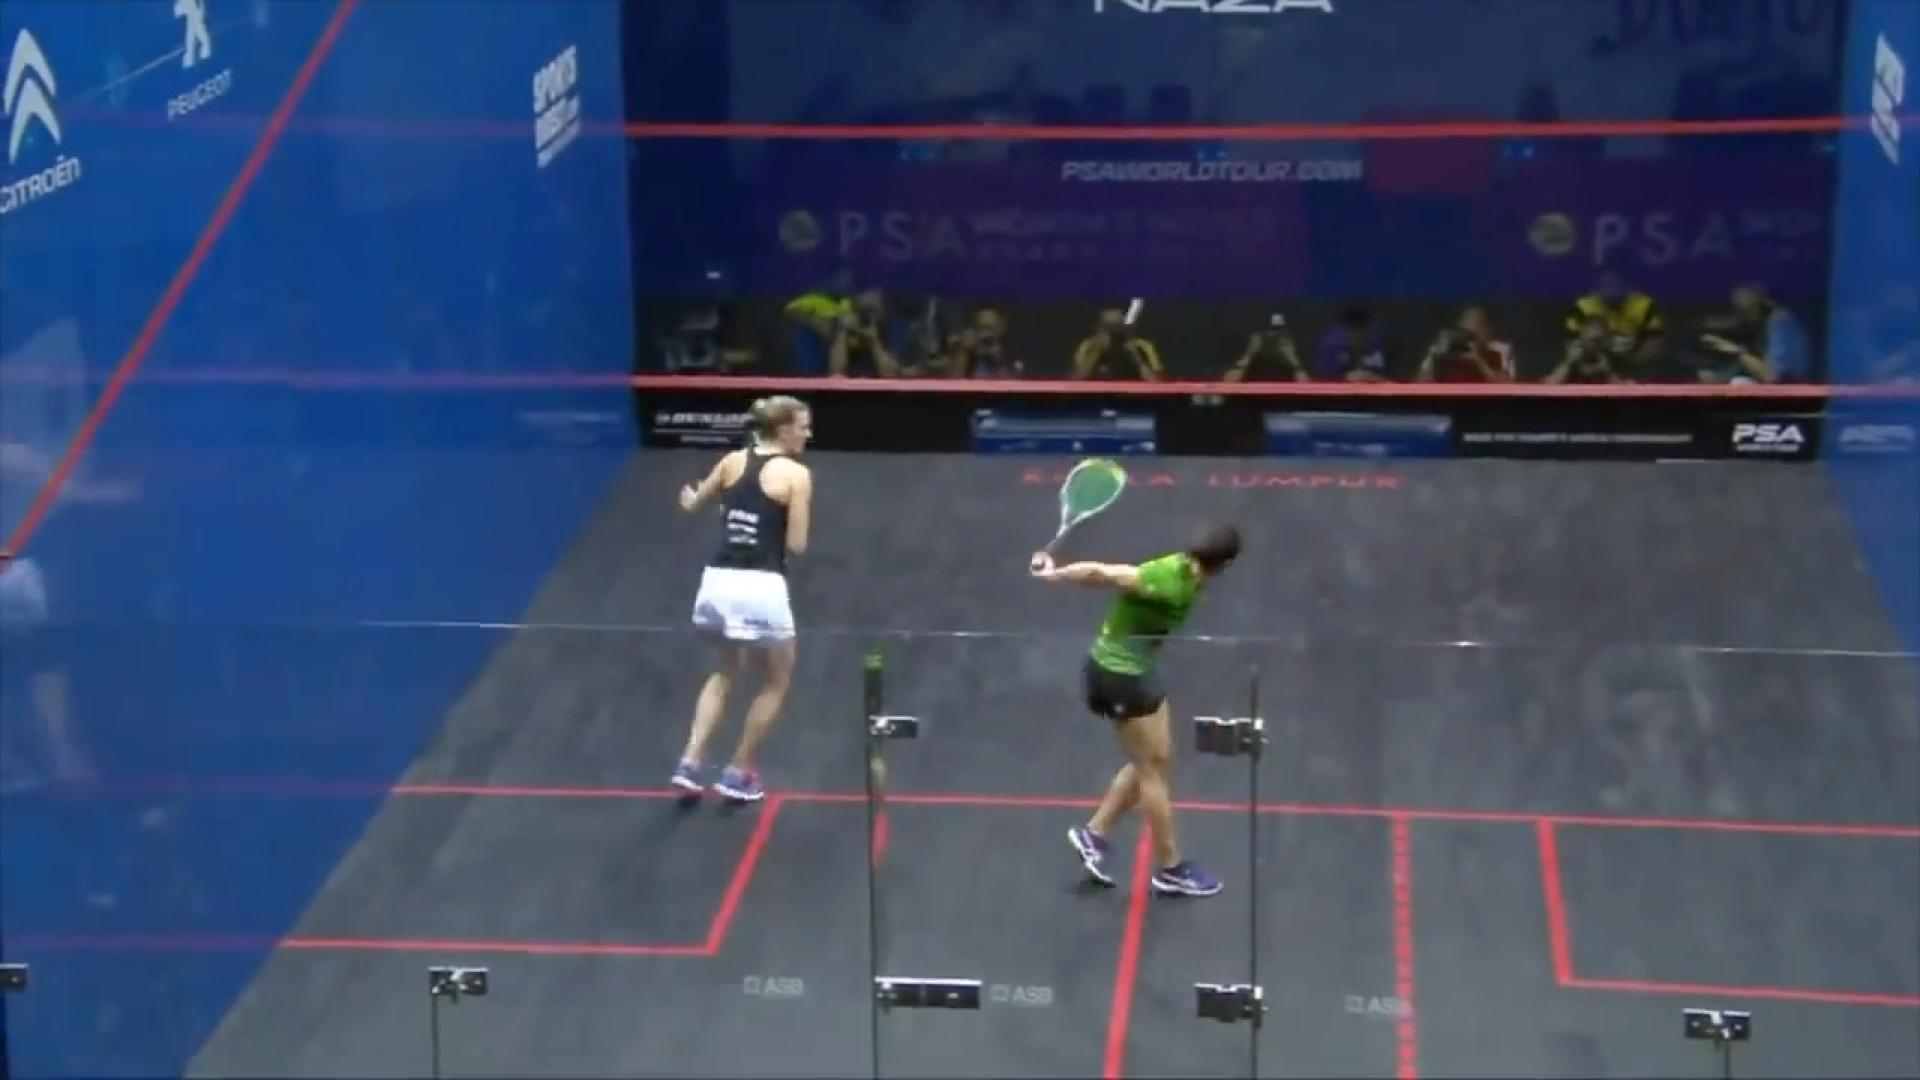Squash-Ball: (1108, 287, 1158, 343)
